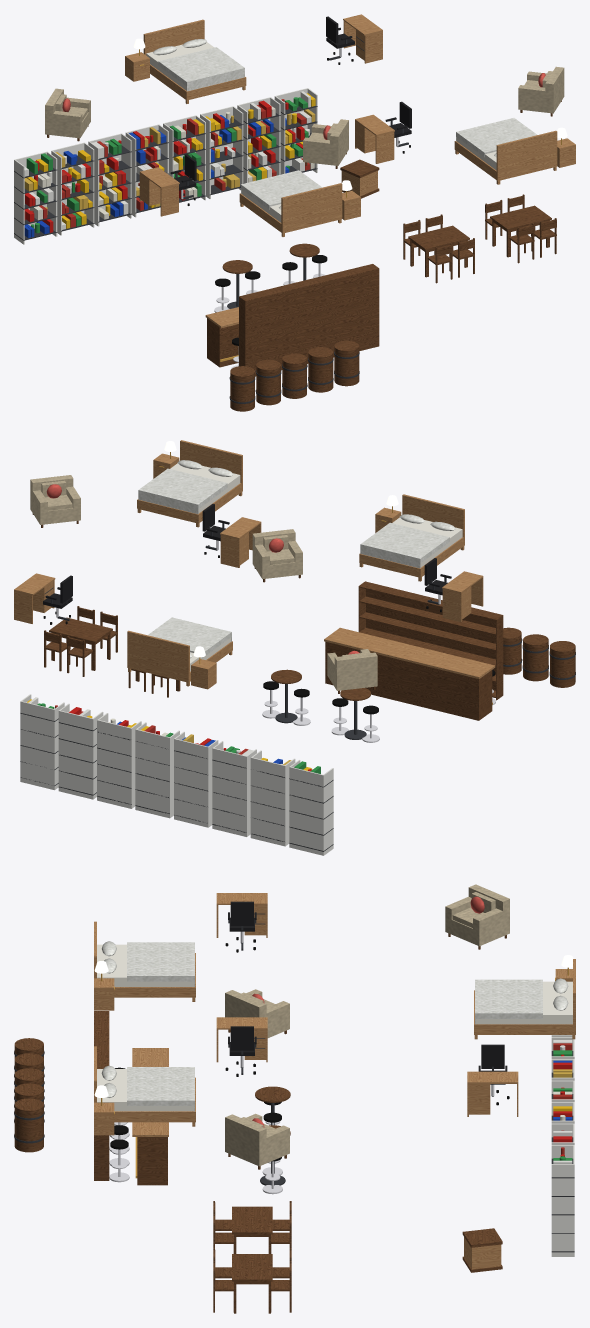
File: i_pirate_tavern.gltf
The picture shows the model from 3 angles, top to bottom: view 1: azimuth 30°, elevation 25°; view 2: azimuth 150°, elevation 25°; view 3: azimuth 270°, elevation 25°; orthographic projection. The views are drawn at different scales.
Visible parts, largest first — view 1: I_pirate_tavern; view 2: I_pirate_tavern; view 3: I_pirate_tavern.
Boxes of the visible parts, box(x1,y1,x2,y2) form: I_pirate_tavern: box(14, 14, 575, 411); I_pirate_tavern: box(14, 440, 575, 855); I_pirate_tavern: box(14, 884, 575, 1313).
Bounding box in the file's own units: 11.55 × 4.45 × 11.03.
Materials: 21 (6 with a texture image).
